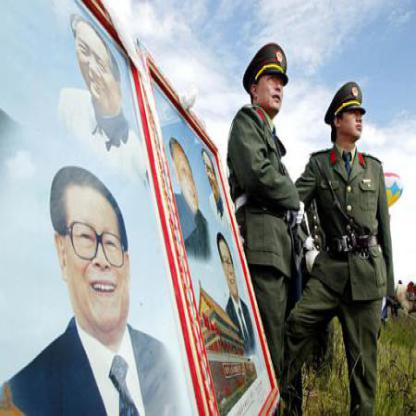face: (66, 171, 135, 335), (75, 22, 121, 111), (258, 60, 288, 115), (341, 90, 368, 140)
